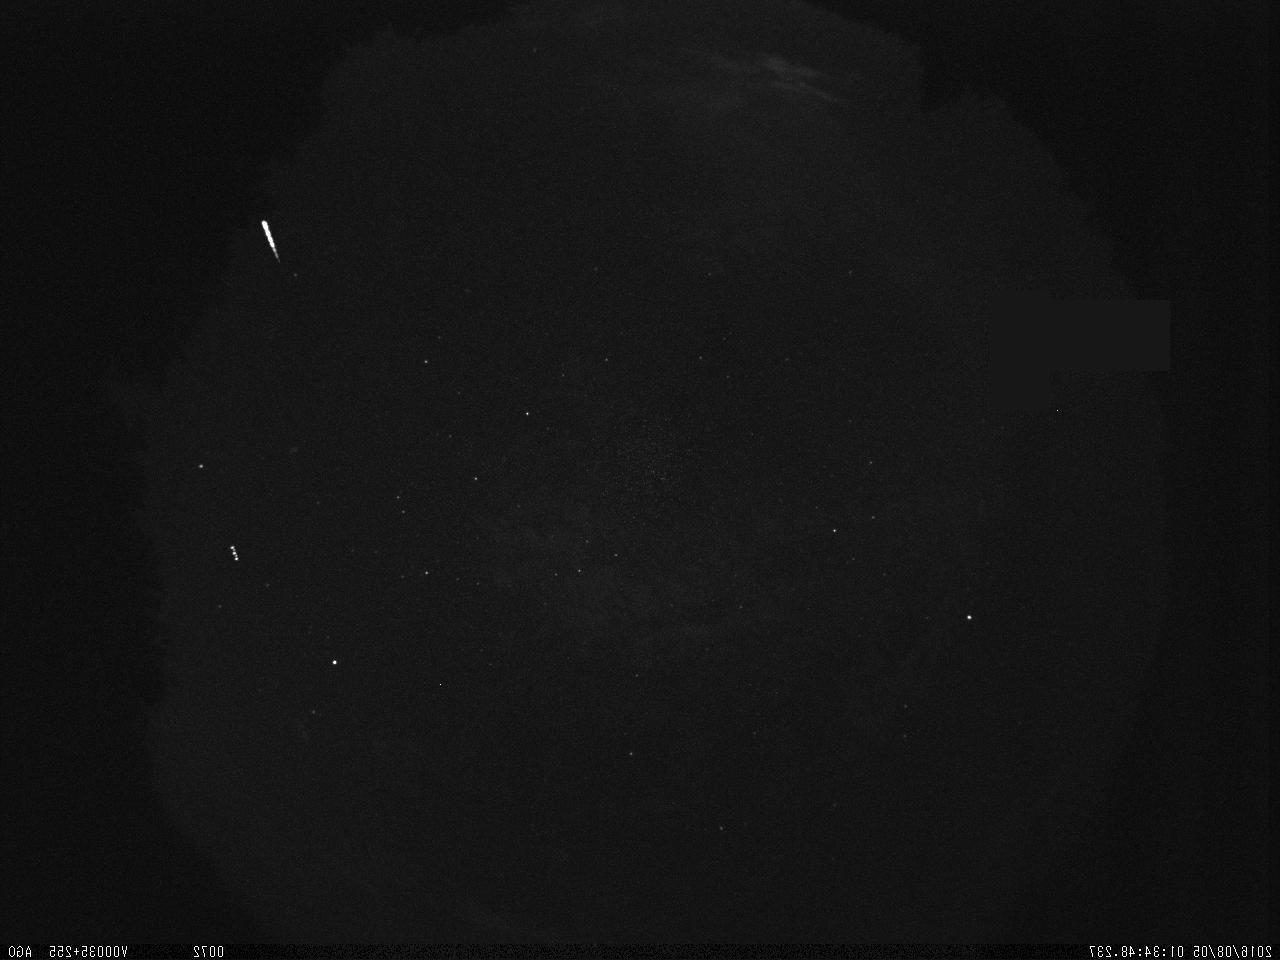meteor: (258, 214, 281, 263)
satelite: (223, 537, 247, 569)
